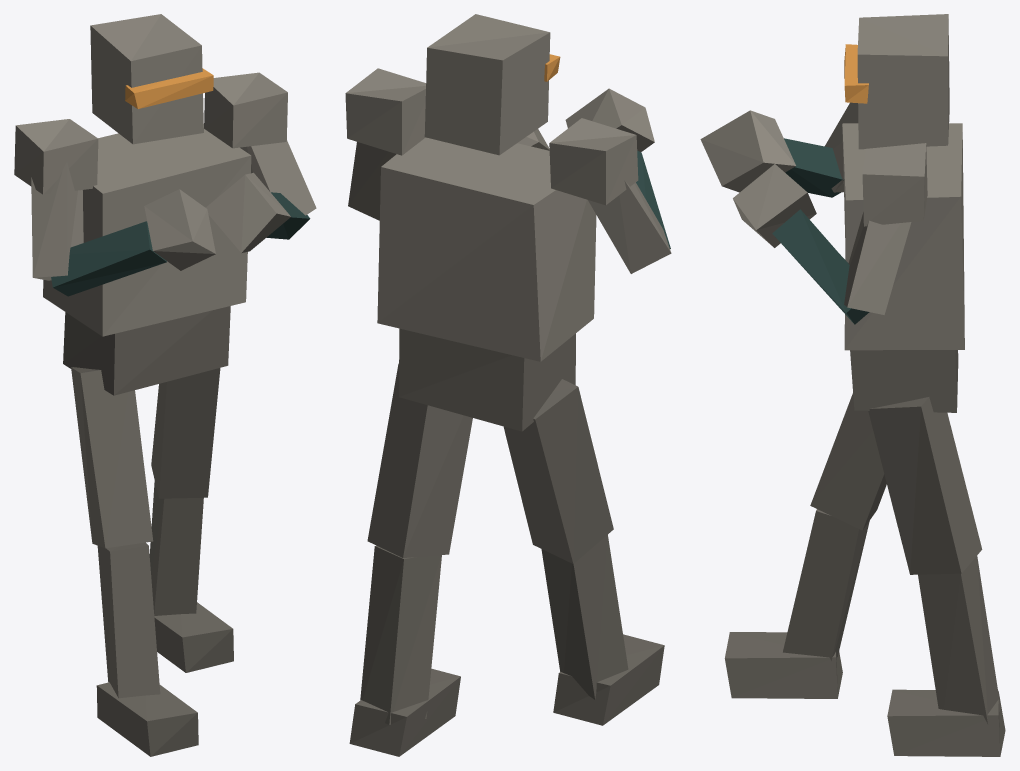
Rendered from punch-lab-boxer-v1.glb.
3 views of the same model, side by side, from view 1: azimuth 30°, elevation 25°; view 2: azimuth 150°, elevation 25°; view 3: azimuth 270°, elevation 25° (orthographic). The views are drawn at different scales.
Visible parts, largest first — view 1: Punch Lab Boxer, object 3, object 2; view 2: Punch Lab Boxer, object 2, object 3; view 3: Punch Lab Boxer, object 3.
Boxes of the visible parts, bbox=[...] form: Punch Lab Boxer: bbox=[31, 14, 316, 756]; object 3: bbox=[204, 72, 287, 148]; object 2: bbox=[14, 119, 98, 194]; Punch Lab Boxer: bbox=[348, 14, 671, 756]; object 2: bbox=[549, 118, 638, 205]; object 3: bbox=[345, 68, 425, 155]; Punch Lab Boxer: bbox=[700, 14, 1005, 756]; object 3: bbox=[862, 143, 927, 226].
Size of the model in its own units: 0.8129 by 1.76 by 0.713.
